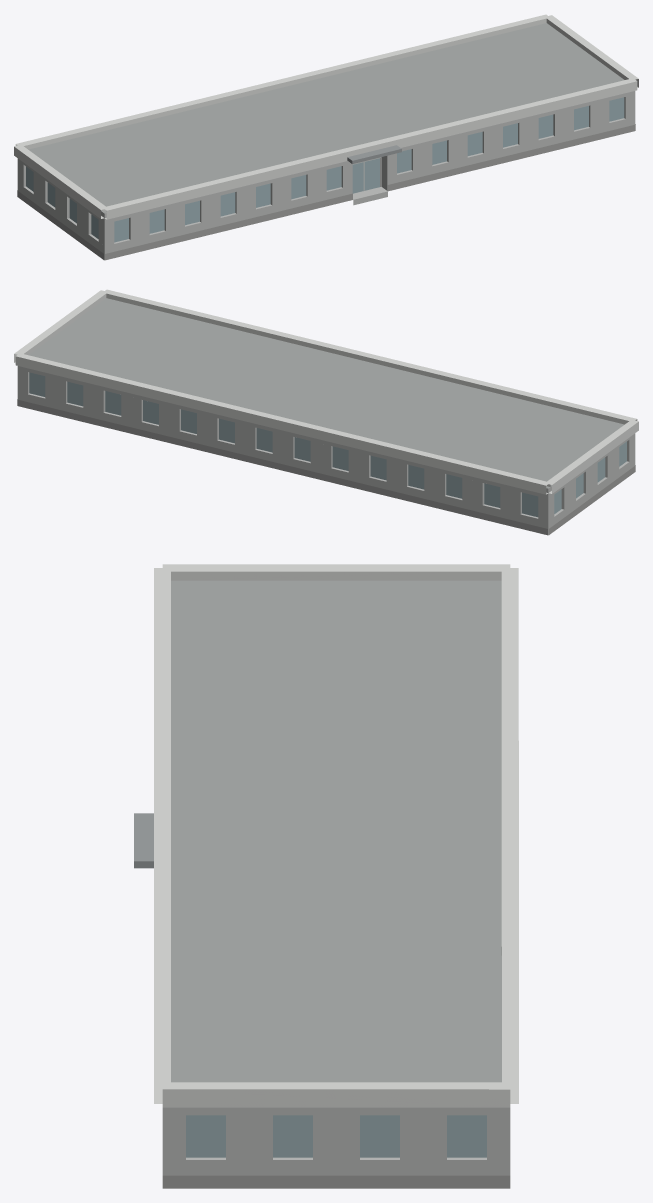
3 renders of one model, top to bottom at view 1: azimuth 30°, elevation 25°; view 2: azimuth 150°, elevation 25°; view 3: azimuth 270°, elevation 25°, orthographic. The views are drawn at different scales.
Visible parts, largest first — view 1: b1299259734__roof, b1299259734__wall, b1299259734__trim, b1299259734__glass, b1299259734__base, b1299259734__canopy, b1299259734__entranceThreshold_0; view 2: b1299259734__roof, b1299259734__wall, b1299259734__trim, b1299259734__glass, b1299259734__base; view 3: b1299259734__roof, b1299259734__trim, b1299259734__wall, b1299259734__glass, b1299259734__base, b1299259734__canopy.
Part boxes in pixels (box(x1,y1,x2,y2)): b1299259734__roof: box(28, 23, 624, 260); b1299259734__wall: box(17, 91, 635, 260); b1299259734__trim: box(14, 14, 638, 219); b1299259734__glass: box(26, 97, 624, 242); b1299259734__base: box(17, 124, 635, 260); b1299259734__canopy: box(347, 145, 401, 163); b1299259734__entranceThreshold_0: box(353, 187, 387, 205); b1299259734__roof: box(28, 298, 624, 488); b1299259734__wall: box(17, 366, 635, 535); b1299259734__trim: box(14, 289, 638, 494); b1299259734__glass: box(29, 372, 626, 517); b1299259734__base: box(17, 399, 635, 535); b1299259734__roof: box(171, 580, 501, 1082); b1299259734__trim: box(154, 564, 518, 1107); b1299259734__wall: box(162, 1107, 510, 1175); b1299259734__glass: box(186, 1115, 486, 1157); b1299259734__base: box(162, 1175, 510, 1188); b1299259734__canopy: box(134, 813, 153, 868).
Bounding box in the file's own units: 43.51 × 4.35 × 13.49.
